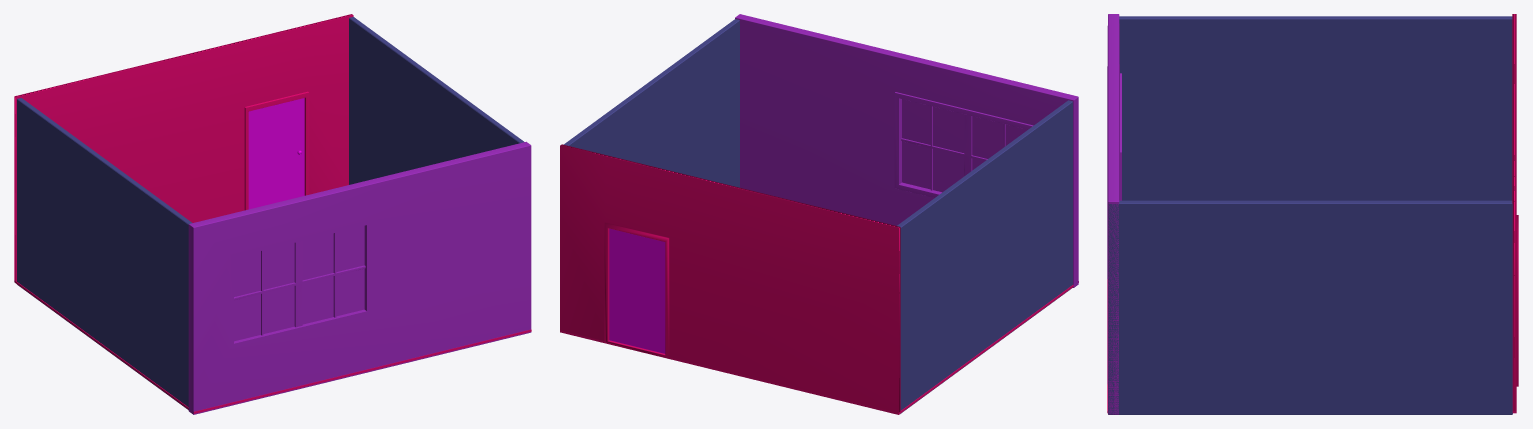
Rendered from Except Ceiling.fbx.
3 views of the same model, side by side, from view 1: azimuth 30°, elevation 25°; view 2: azimuth 150°, elevation 25°; view 3: azimuth 270°, elevation 25° (orthographic). The views are drawn at different scales.
Parts seen in each view (by area): view 1: Window_Wall, Door_Wall, Wall_2, Wall_1, Window_Window, Door, Window_Frame, Floor1; view 2: Door_Wall, Window_Wall, Wall_2, Wall_1, Door, Window_Window, Floor1, Window_Frame; view 3: Wall_1, Wall_2, Window_Wall, Door_Wall.
Part boxes in pixels (x1,y1,x2,y2): Window_Wall: [188, 141, 531, 414]; Door_Wall: [14, 14, 353, 281]; Wall_2: [17, 98, 192, 409]; Wall_1: [349, 17, 524, 184]; Window_Window: [234, 225, 364, 341]; Door: [248, 98, 304, 209]; Window_Frame: [234, 232, 365, 335]; Floor1: [14, 280, 531, 413]; Door_Wall: [560, 144, 900, 412]; Window_Wall: [735, 14, 1078, 287]; Wall_2: [897, 100, 1072, 414]; Wall_1: [564, 19, 739, 187]; Door: [609, 228, 665, 353]; Window_Window: [902, 99, 1027, 192]; Floor1: [560, 281, 1078, 414]; Window_Frame: [901, 106, 1005, 190]; Wall_1: [1108, 200, 1512, 414]; Wall_2: [1119, 16, 1512, 200]; Window_Wall: [1107, 14, 1121, 414]; Door_Wall: [1512, 14, 1518, 411].
Bounding box in the file's own units: 620 × 329 × 574.
